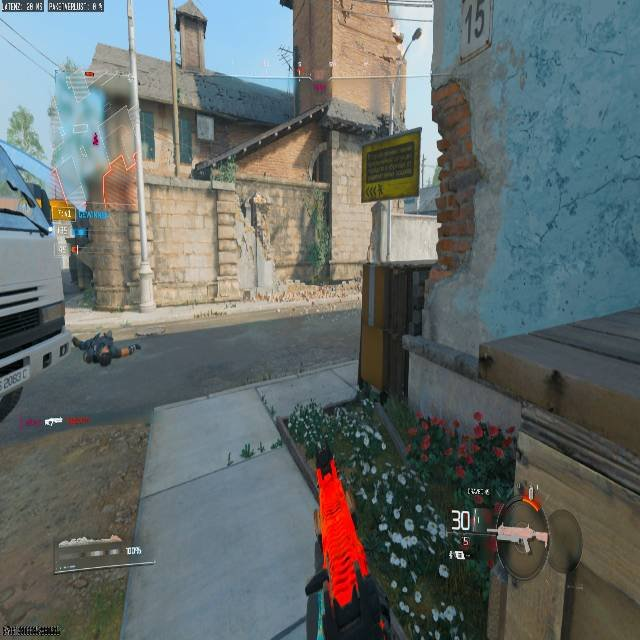head: (96, 348, 111, 366)
